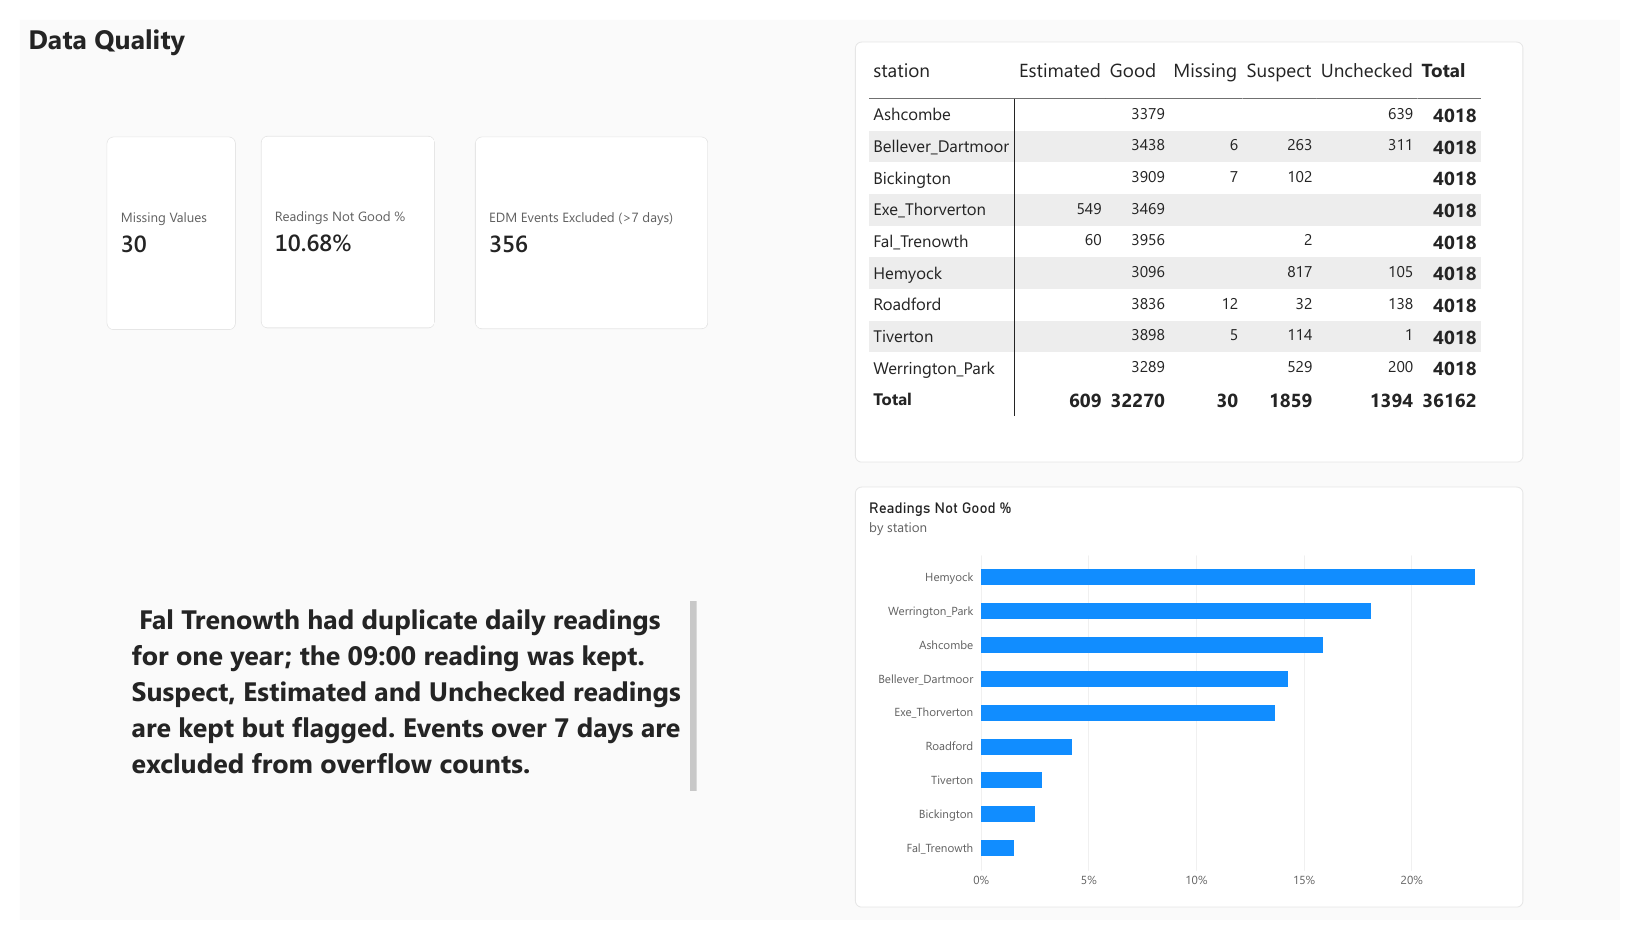

What the dashboard file says about the page in this screenshot:
{"tool":"powerbi","page":{"name":"Data Quality","canvas":[1920,1080],"ordinal":4},"visuals":[{"type":"textbox","box":[10,0,280,280],"z":0},{"type":"pivotTable","fields":{"Columns":["fact_daily_readings.quality"],"Rows":["dim_station.station"],"Values":["_Measures.Readings"]},"box":[1002,25.7,801.6,505.3],"z":1000},{"type":"textbox","box":[133.6,697.1,678.3,231.2],"z":2000},{"type":"cardVisual","fields":{"Data":["_Measures.Missing Values"]},"box":[104.5,140.4,154.1,231.2],"z":3000},{"type":"cardVisual","fields":{"Data":["_Measures.Readings Not Good %"]},"box":[289.5,138.7,209,231.2],"z":4000},{"type":"cardVisual","fields":{"Data":["_Measures.EDM Events Excluded (>7 days)"]},"box":[546.4,140.4,280,231],"z":5000},{"type":"clusteredBarChart","fields":{"Category":["dim_station.station"],"Y":["_Measures.Readings Not Good %"]},"box":[1002,560.1,801.6,505.3],"z":6000}]}

Visuals, with their boxes in screenshot pixels (x1, y1, x2, y2), scaled from the page's 1920x1080 canvas onto the 1640x940 screenshot:
textbox: x1=9, y1=0, x2=248, y2=244
pivotTable - fact_daily_readings.quality x dim_station.station: x1=856, y1=22, x2=1541, y2=462
textbox: x1=114, y1=607, x2=693, y2=808
cardVisual - _Measures.Missing Values: x1=89, y1=122, x2=221, y2=323
cardVisual - _Measures.Readings Not Good %: x1=247, y1=121, x2=426, y2=322
cardVisual - _Measures.EDM Events Excluded (>7 days): x1=467, y1=122, x2=706, y2=323
clusteredBarChart - dim_station.station x _Measures.Readings Not Good %: x1=856, y1=487, x2=1541, y2=927
